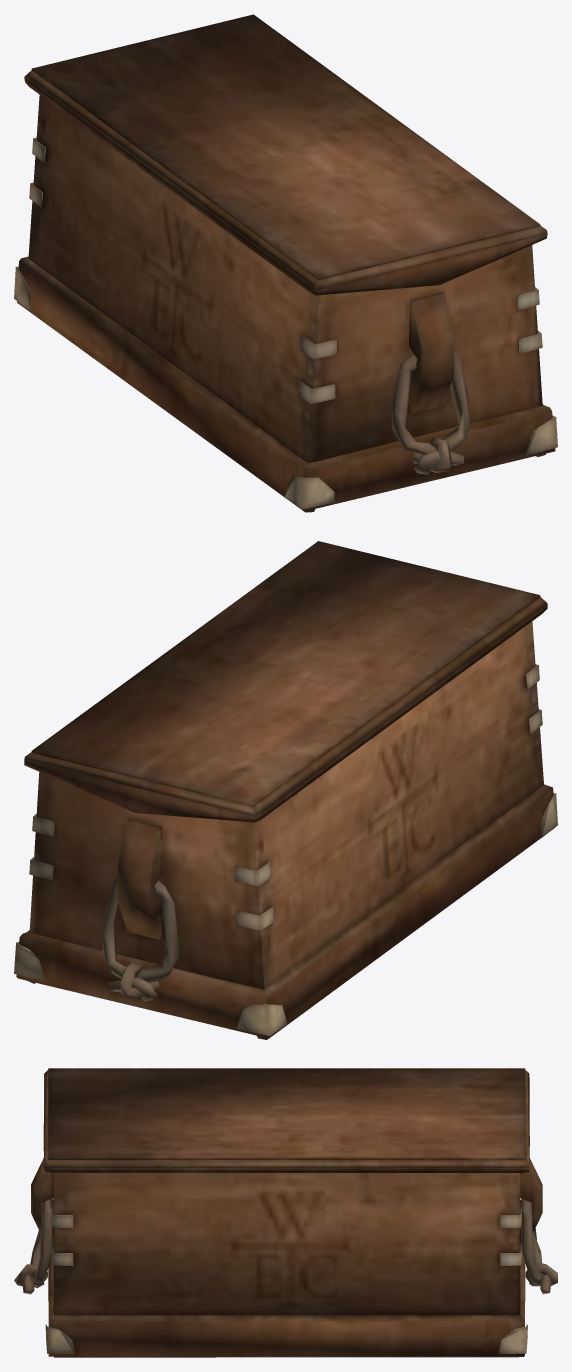
File: wooden_crate_02.glb
3 views of the same model, one above another, from view 1: azimuth 30°, elevation 25°; view 2: azimuth 150°, elevation 25°; view 3: azimuth 270°, elevation 25° (orthographic). The views are drawn at different scales.
Parts seen in each view (by area): view 1: wooden_crate_02_crate; view 2: wooden_crate_02_crate; view 3: wooden_crate_02_crate.
Part boxes in pixels (left/top/right/bottom): wooden_crate_02_crate: left=14, top=14, right=557, bottom=512; wooden_crate_02_crate: left=14, top=541, right=557, bottom=1039; wooden_crate_02_crate: left=14, top=1068, right=557, bottom=1357.
Size of the model in its own units: 0.5291 by 0.4628 by 1.16.
Materials: 1 (1 with a texture image).
